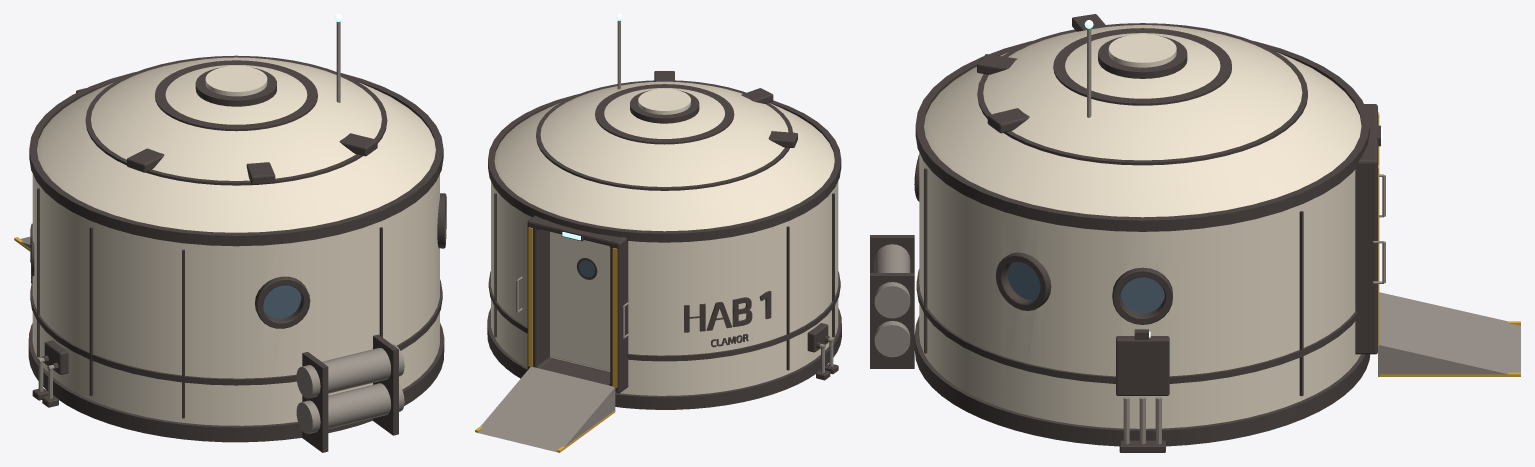
File: building_habitat.glb
The picture shows the model from 3 angles, left to right: view 1: azimuth 30°, elevation 25°; view 2: azimuth 150°, elevation 25°; view 3: azimuth 270°, elevation 25°; orthographic projection. The views are drawn at different scales.
Parts seen in each view (by area): view 1: wall-col, roof-col, detail-col, tank1-convcol, tank0-convcol, roof_ring1.85-convcol, roof_ring1.0-convcol, interior-col, roof_hatch_lid-convcol, cradle-0.5-convcol, cradle0.5-convcol, roof_hatch-convcol (+3 smaller); view 2: wall-col, roof-col, detail-col, door, ramp-col, hatch-col, roof_ring1.85-convcol, roof_ring1.0-convcol, roof_hatch_lid-convcol, roof_hatch-convcol, vent0-convcol; view 3: wall-col, roof-col, detail-col, ramp-col, hatch-col, interior-col, roof_ring1.85-convcol, roof_ring1.0-convcol, cradle0.5-convcol, tank1-convcol, roof_hatch_lid-convcol, roof_hatch-convcol (+3 smaller).
Part boxes in pixels (box(x1,y1,x2,y2)): wall-col: box(32, 174, 439, 425); roof-col: box(37, 57, 435, 232); detail-col: box(14, 14, 444, 442); tank1-convcol: box(296, 344, 404, 398); tank0-convcol: box(296, 383, 404, 433); roof_ring1.85-convcol: box(85, 55, 387, 185); roof_ring1.0-convcol: box(155, 60, 317, 131); interior-col: box(255, 193, 446, 328); roof_hatch_lid-convcol: box(205, 66, 267, 96); cradle-0.5-convcol: box(302, 352, 328, 452); cradle0.5-convcol: box(373, 334, 398, 435); roof_hatch-convcol: box(195, 67, 276, 106); wall-col: box(491, 181, 838, 395); roof-col: box(494, 81, 834, 231); detail-col: box(475, 14, 841, 452); door: box(550, 231, 610, 370); ramp-col: box(476, 367, 615, 452); hatch-col: box(527, 215, 628, 393); roof_ring1.85-convcol: box(536, 80, 792, 190); roof_ring1.0-convcol: box(595, 84, 734, 144); roof_hatch_lid-convcol: box(638, 88, 690, 114); roof_hatch-convcol: box(630, 90, 699, 123); vent0-convcol: box(768, 131, 797, 147); wall-col: box(919, 152, 1360, 428); roof-col: box(924, 25, 1361, 217); detail-col: box(914, 20, 1520, 446); ramp-col: box(1378, 292, 1520, 376); hatch-col: box(1355, 104, 1377, 354); interior-col: box(914, 154, 1172, 324); roof_ring1.85-convcol: box(977, 23, 1307, 165); roof_ring1.0-convcol: box(1053, 28, 1231, 105); cradle0.5-convcol: box(870, 273, 914, 368); tank1-convcol: box(874, 244, 910, 318); roof_hatch_lid-convcol: box(1108, 34, 1176, 67); roof_hatch-convcol: box(1098, 35, 1187, 78).
Bounding box in the file's own units: 5.5 × 4.59 × 7.28.
